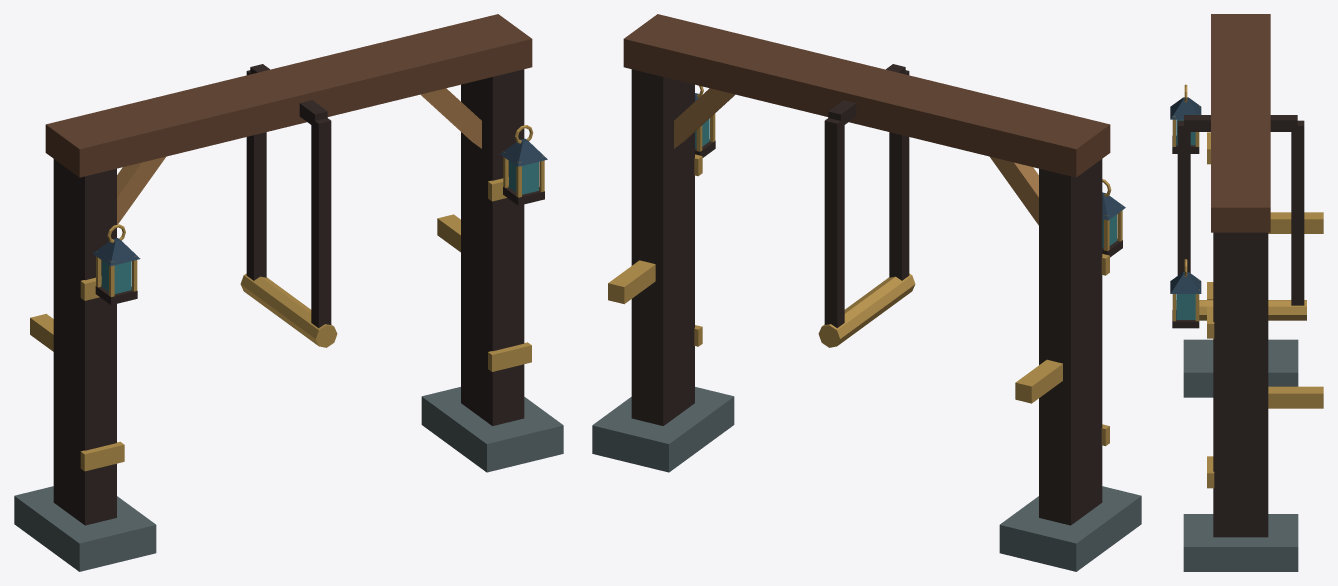
The model's file is PirateCove_TidewheelFrame_Showcase.glb.
3 views of the same model, side by side, from view 1: azimuth 30°, elevation 25°; view 2: azimuth 150°, elevation 25°; view 3: azimuth 270°, elevation 25° (orthographic). The views are drawn at different scales.
Parts seen in each view (by area): view 1: PirateCove_TidewheelFrame_Showcase; view 2: PirateCove_TidewheelFrame_Showcase; view 3: PirateCove_TidewheelFrame_Showcase.
Part boxes in pixels (<box>): PirateCove_TidewheelFrame_Showcase: <box>14,14,563,571</box>; PirateCove_TidewheelFrame_Showcase: <box>592,14,1141,571</box>; PirateCove_TidewheelFrame_Showcase: <box>1170,14,1323,571</box>.
Bounding box in the file's own units: 5.35 × 4.3 × 1.67.
